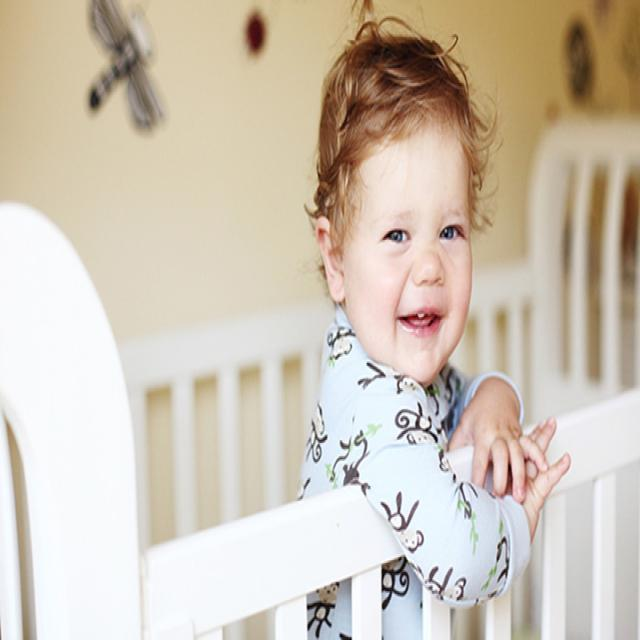non-dog: (296, 2, 567, 631)
